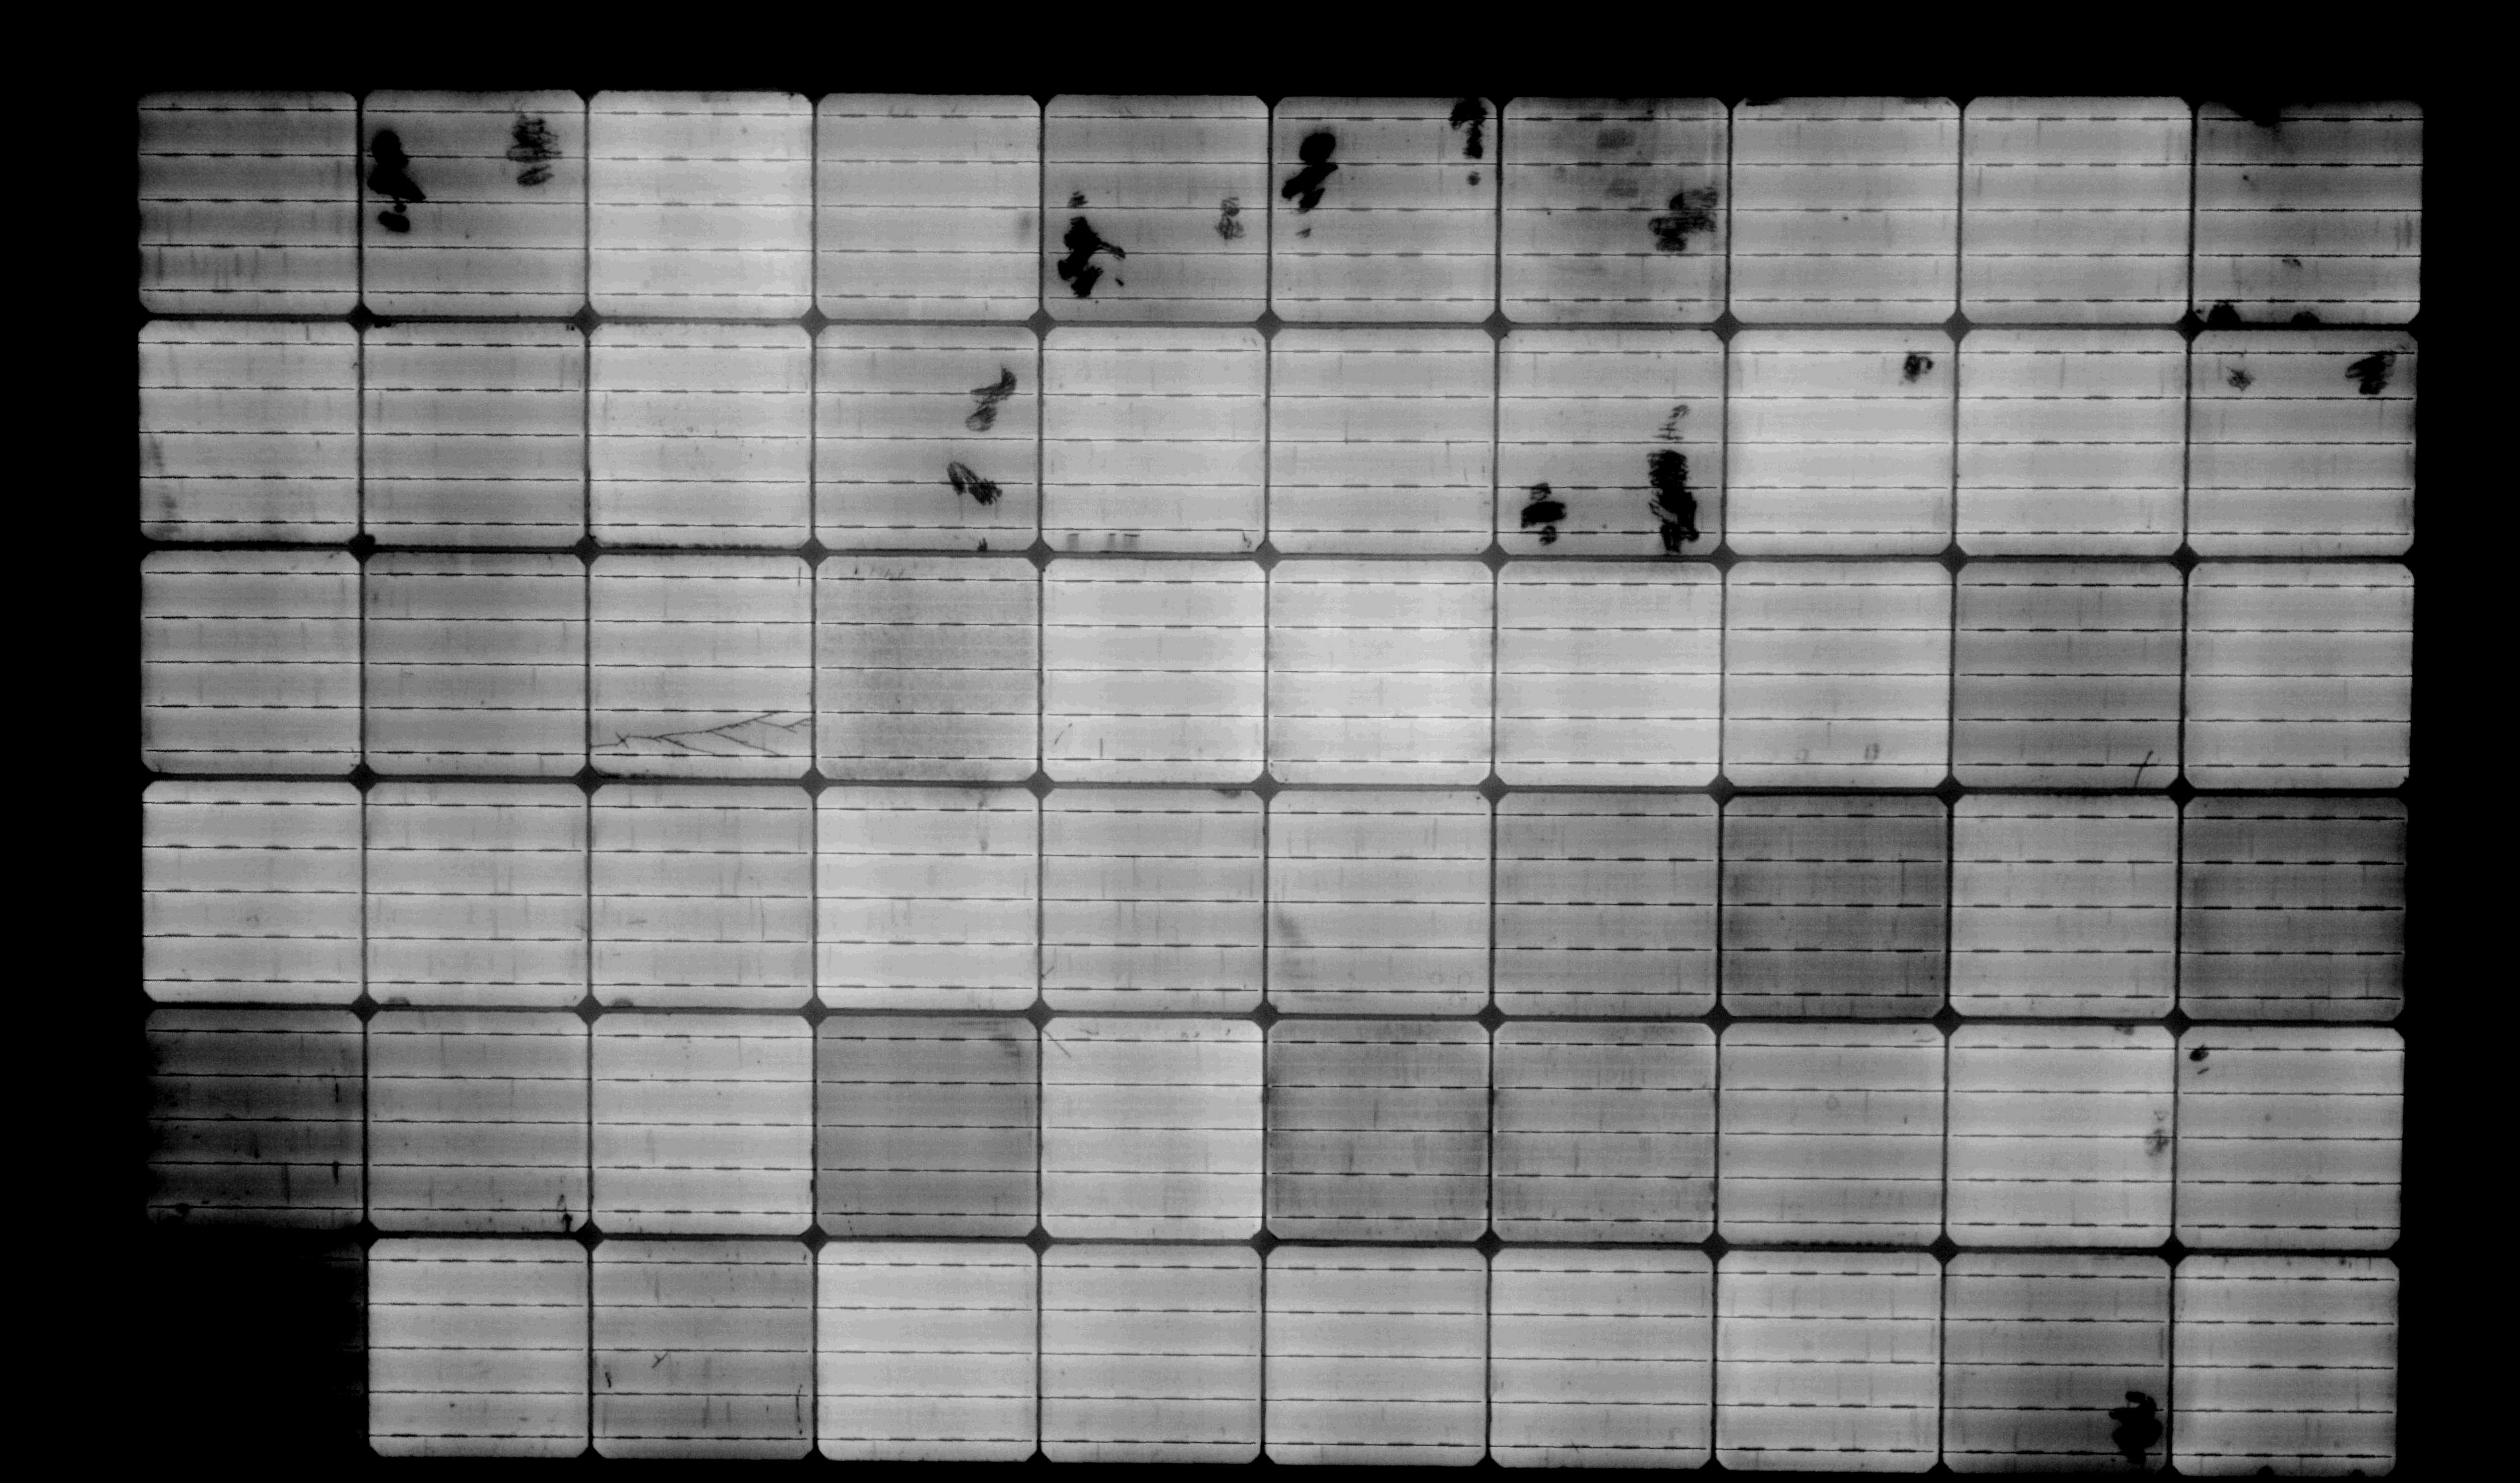5,9: (2172, 83, 2434, 339), (118, 81, 381, 335), (125, 1213, 388, 1467)
